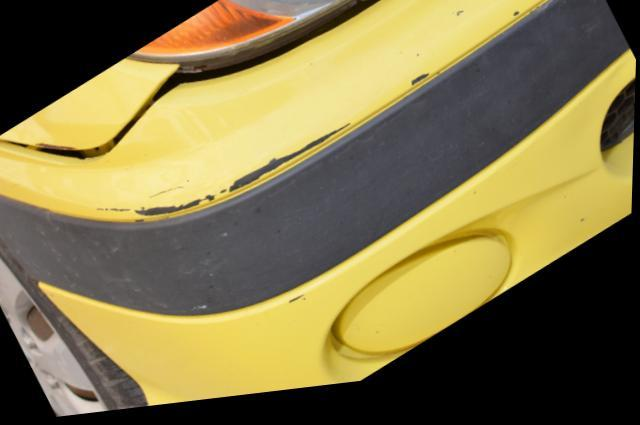scratch: (103, 128, 356, 226)
